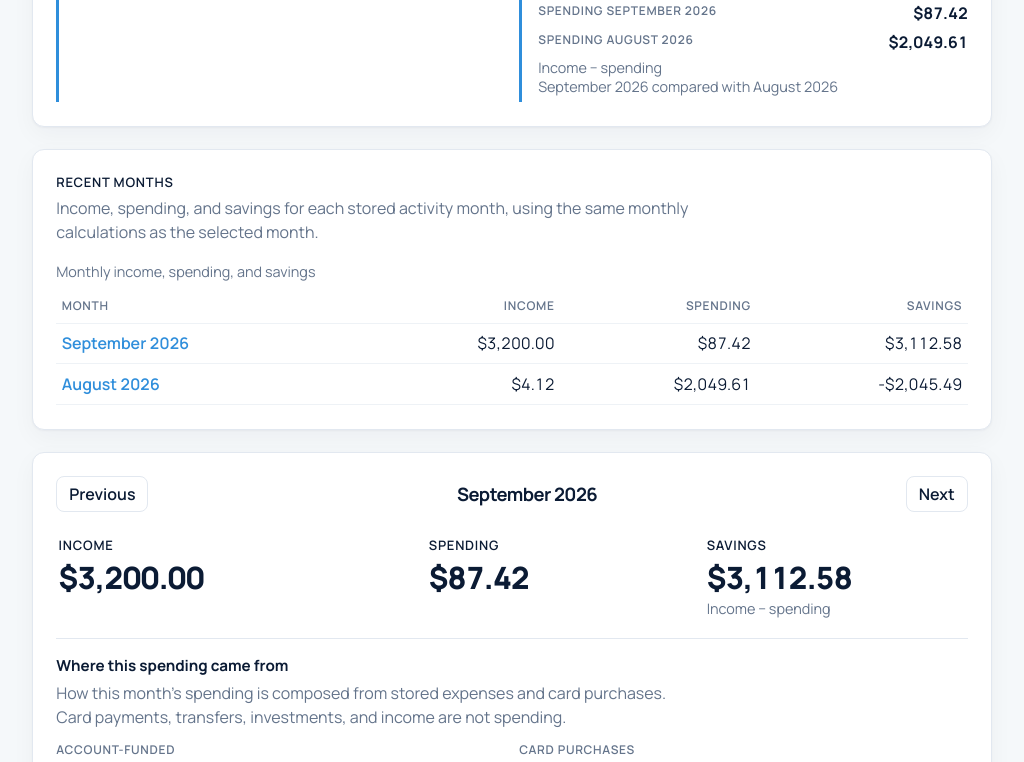
Finora spending view › lists stored months and selects one from the history table
(page scrolled)
Expected: the text "$3,200.00" is shown, [364,323,560,364]
Expected: the text "$2,049.61" is shown, [560,364,757,404]
What coordinates should you click on to do the following:
click the button with aria-label "Show August 2026"
I would click on:
 (111, 384)
Its box is [62,373,160,395].
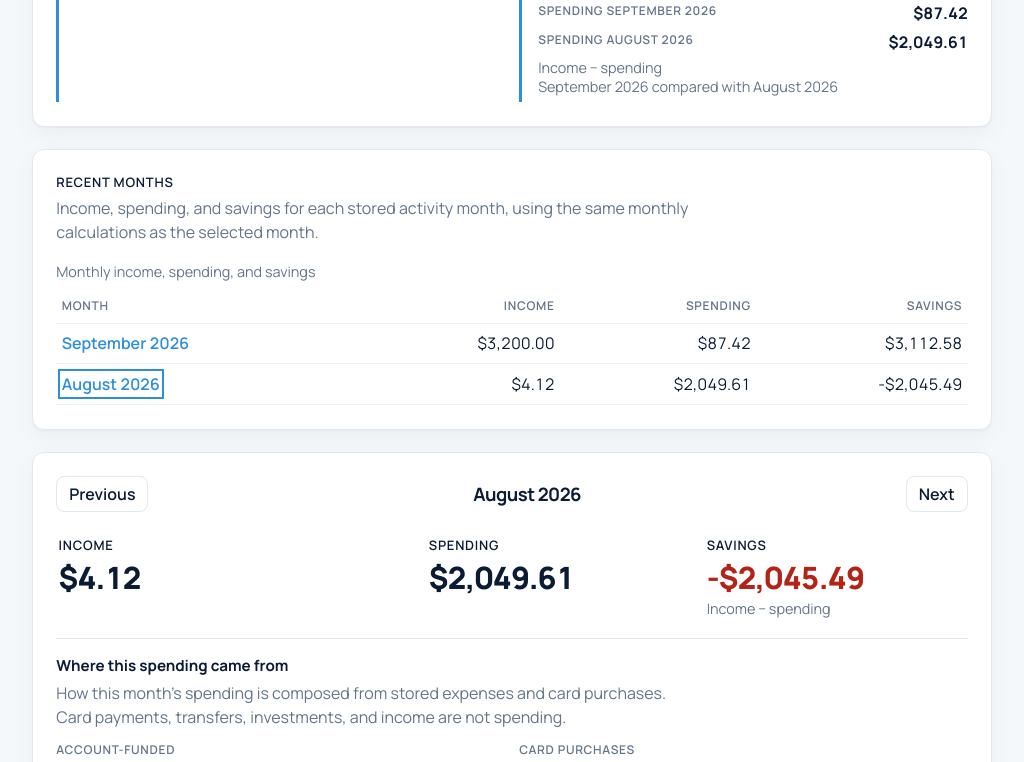
Now the heading "August 2026" is shown, box [473,481,581,507]
Now the text "$4.12" is shown, box [59,556,141,598]
